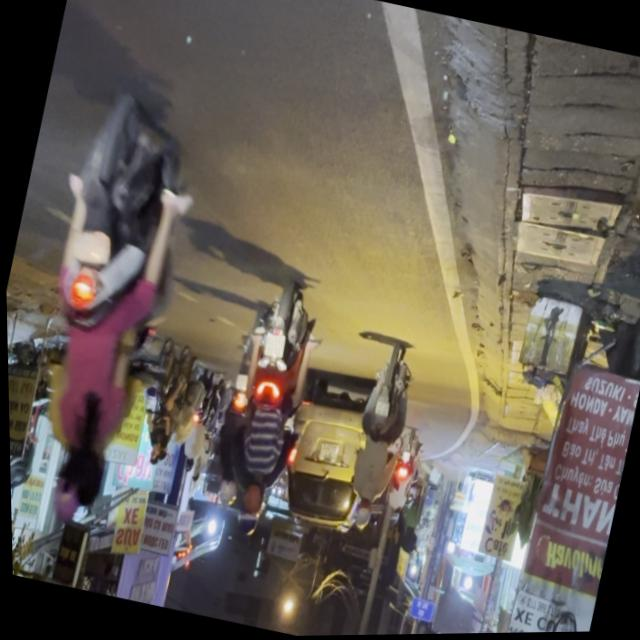helmet: (41, 464, 84, 525), (235, 469, 267, 516), (228, 496, 259, 536)
licenseplate: (1, 82, 217, 539), (203, 271, 329, 541)
motorcyclist: (56, 421, 113, 506)
nohelmet: (65, 228, 110, 267), (259, 331, 285, 358)
